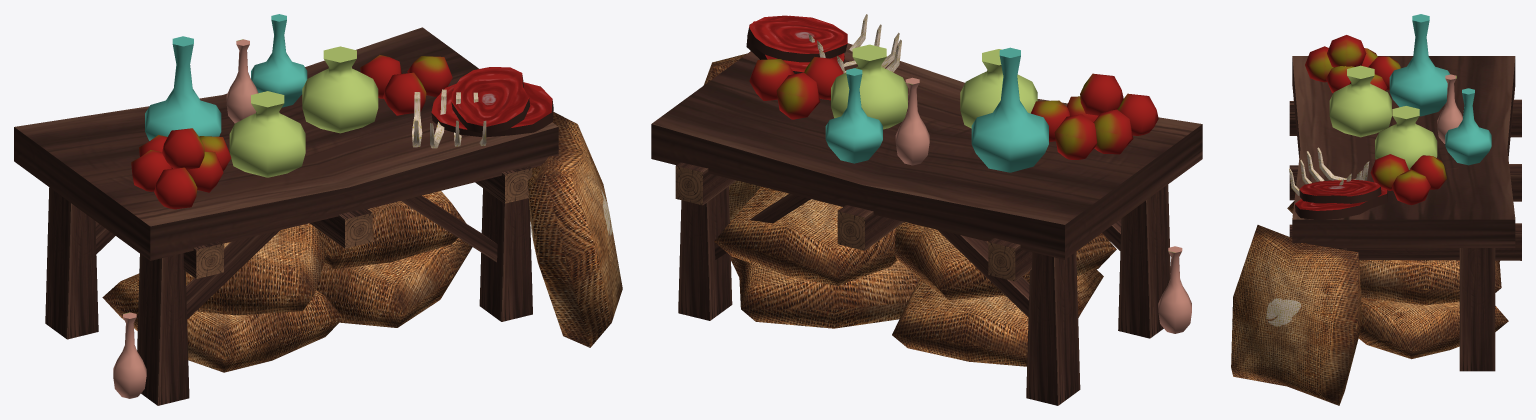
Rendered from Tablefood1.FBX.
3 renders of one model, left to right at view 1: azimuth 30°, elevation 25°; view 2: azimuth 150°, elevation 25°; view 3: azimuth 270°, elevation 25°, orthographic. The views are drawn at different scales.
Visible parts, largest first — view 1: Box003, Box004; view 2: Box004, Box003; view 3: Box003, Box004.
Boxes of the visible parts, x1,y1,x2,y2 form: Box003: (102, 14, 622, 398); Box004: (14, 27, 558, 405); Box004: (651, 43, 1202, 405); Box003: (703, 14, 1191, 366); Box003: (1231, 14, 1508, 405); Box004: (1289, 56, 1521, 371).
Bounding box in the file's own units: 69.31 × 39.41 × 42.59.
